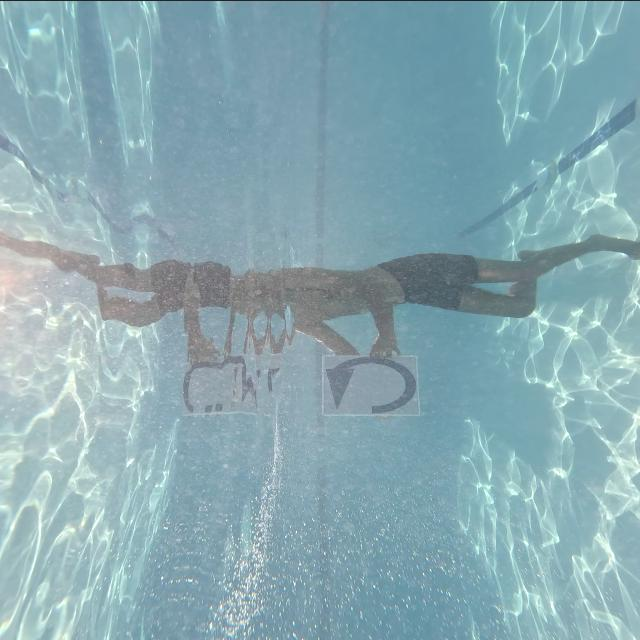blue_side: (311, 352, 419, 418)
